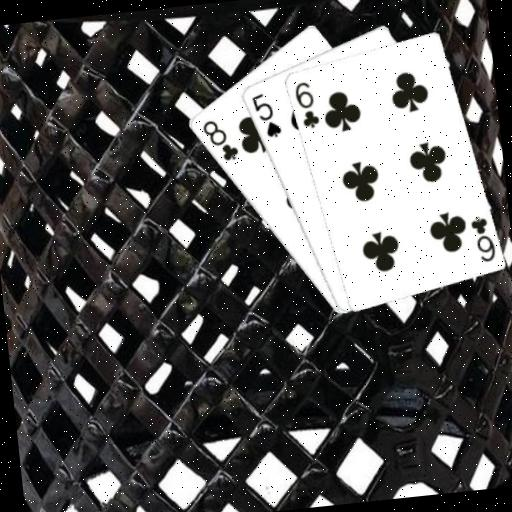5S: (247, 89, 284, 142)
6C: (466, 212, 498, 265), (291, 78, 322, 131)
8C: (198, 114, 241, 165)
